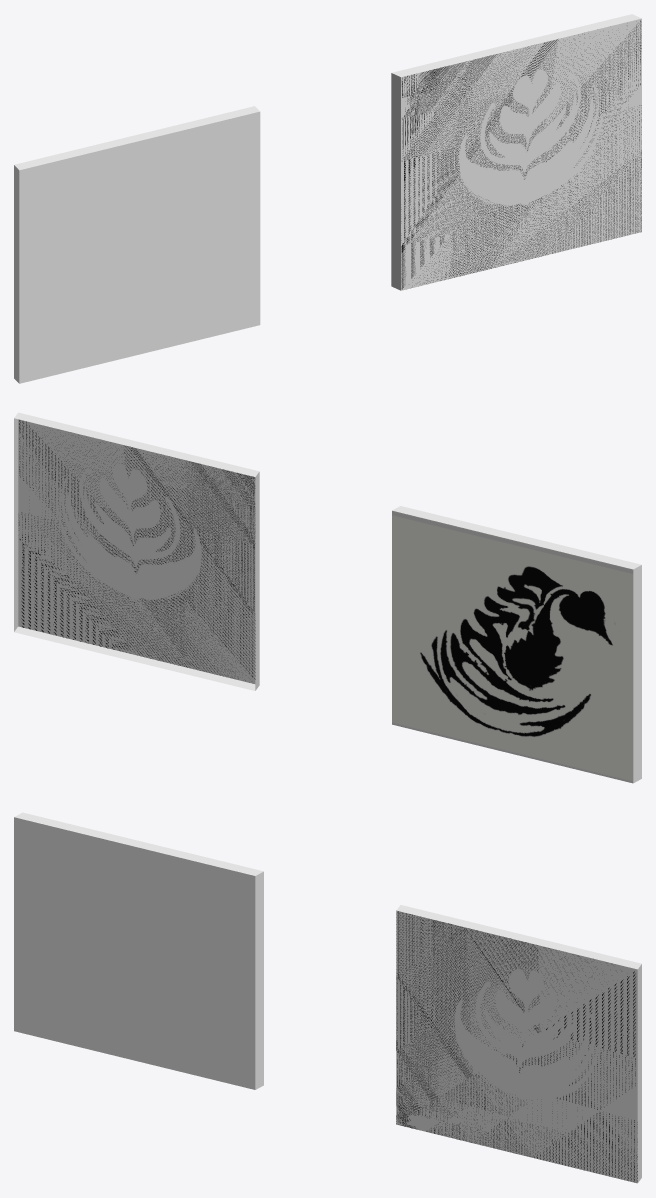
The model's file is two_pictures.dae.
The picture shows the model from 3 angles, top to bottom: view 1: azimuth 30°, elevation 25°; view 2: azimuth 150°, elevation 25°; view 3: azimuth 330°, elevation 25°; orthographic projection.
Parts seen in each view (by area): view 1: SketchUp (×3); view 2: SketchUp (×4); view 3: SketchUp (×3).
Boxes of the visible parts, x1=… form: SketchUp (×3): x1=14, y1=14, x2=641, y2=383; SketchUp (×4): x1=14, y1=412, x2=641, y2=783; SketchUp (×3): x1=14, y1=812, x2=641, y2=1183.
Size of the model in its own units: 86.5 by 1.71 by 28.35.
3 materials, 2 textured.
